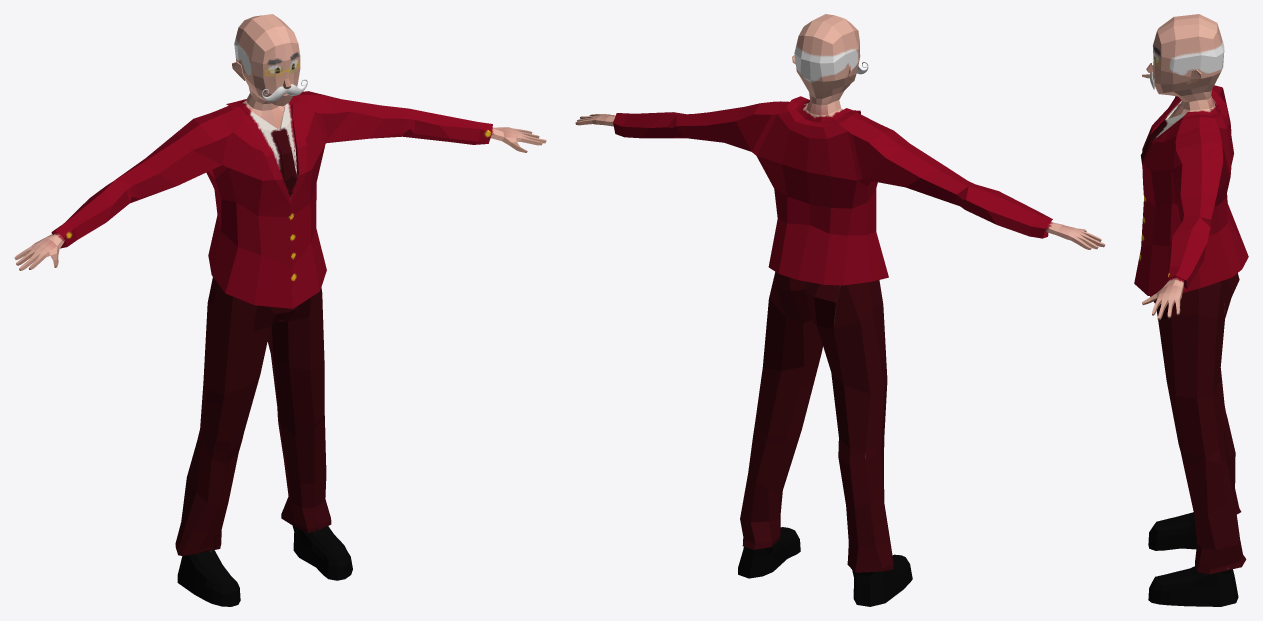
The model's file is MM_Edited.fbx.
3 renders of one model, left to right at view 1: azimuth 30°, elevation 25°; view 2: azimuth 150°, elevation 25°; view 3: azimuth 270°, elevation 25°, orthographic.
Visible parts, largest first — view 1: node_id85, node_id82, node_id76, node_id88; view 2: node_id85, node_id82, node_id76, node_id88; view 3: node_id85, node_id82, node_id76, node_id88.
Boxes of the visible parts, box(x1,y1,x2,y2) form: node_id85: box(51, 91, 492, 308); node_id82: box(175, 277, 331, 555); node_id76: box(14, 14, 546, 270); node_id88: box(177, 526, 352, 606); node_id85: box(613, 96, 1052, 285); node_id82: box(740, 272, 893, 572); node_id76: box(575, 14, 1105, 321); node_id88: box(738, 527, 912, 606); node_id85: box(1134, 85, 1248, 295); node_id82: box(1150, 273, 1246, 574); node_id76: box(1142, 14, 1225, 320); node_id88: box(1148, 512, 1238, 606).
Size of the model in its own units: 0.5048 by 0.5117 by 0.0958.
5 materials, 4 textured.
